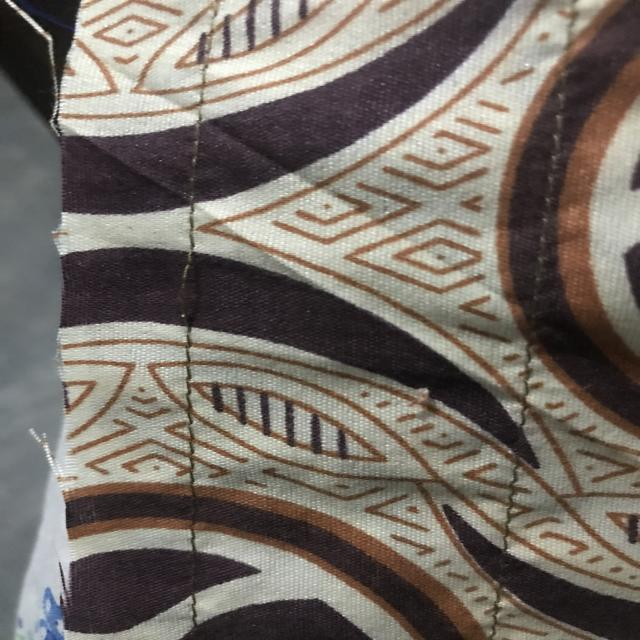good: (178, 367, 206, 497)
skip: (159, 238, 219, 336)
